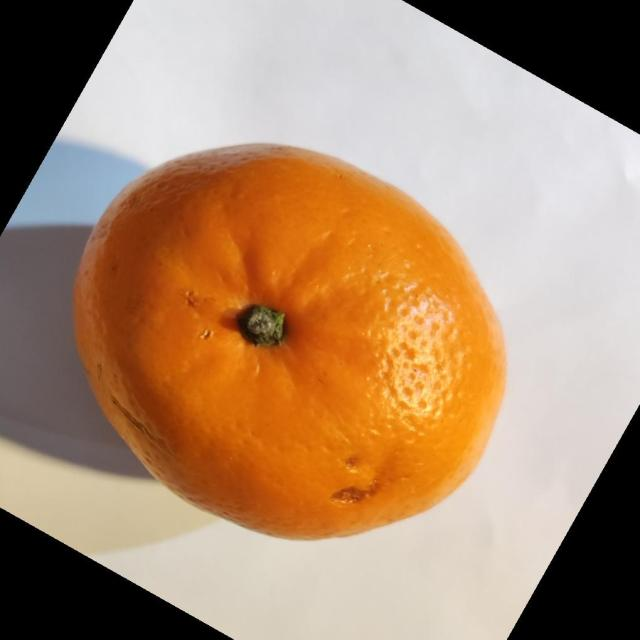fresh orange: (71, 140, 508, 542)
